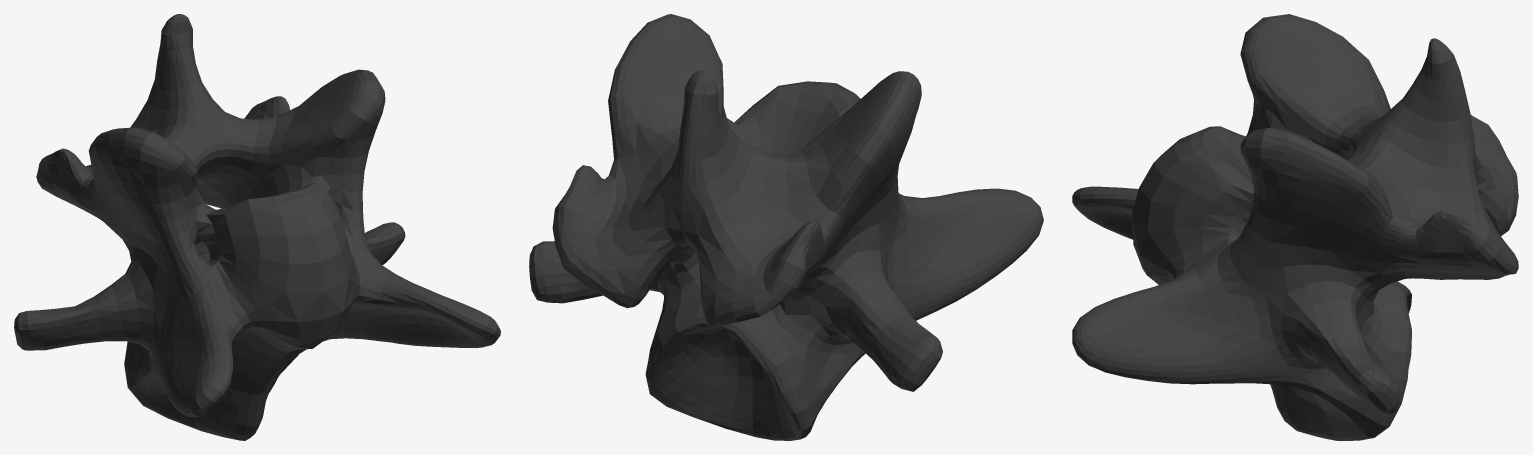
3 views of the same model, side by side, from view 1: azimuth 30°, elevation 25°; view 2: azimuth 150°, elevation 25°; view 3: azimuth 270°, elevation 25° (orthographic). The views are drawn at different scales.
Visible parts, largest first — view 1: b_C3_LO; view 2: b_C3_LO; view 3: b_C3_LO.
Part boxes in pixels (x1,y1,x2,y2): b_C3_LO: [14, 14, 500, 440]; b_C3_LO: [529, 14, 1043, 440]; b_C3_LO: [1072, 14, 1518, 440].
Bounding box in the file's own units: 0.00106 × 0.001 × 0.00102.
1 material, 1 textured.
